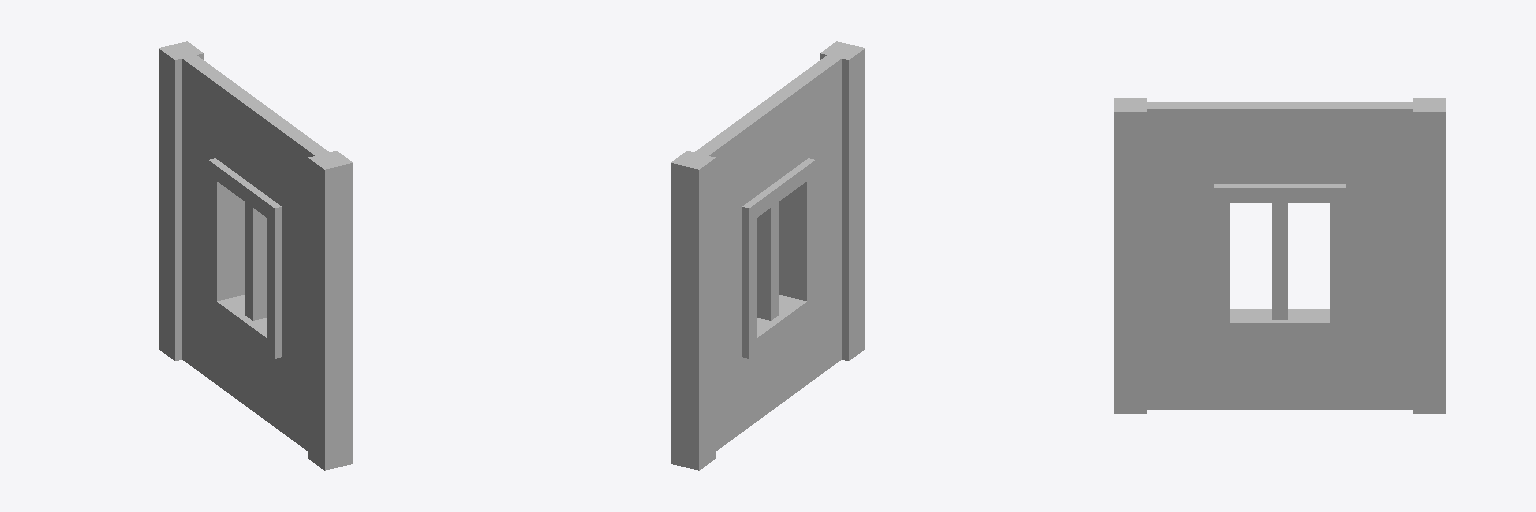
File: wall-wood-window-shutters.obj
3 views of the same model, side by side, from view 1: azimuth 30°, elevation 25°; view 2: azimuth 150°, elevation 25°; view 3: azimuth 270°, elevation 25° (orthographic).
Parts seen in each view (by area): view 1: wall-wood-window-shutters; view 2: wall-wood-window-shutters; view 3: wall-wood-window-shutters.
Part boxes in pixels (x1,y1,x2,y2): wall-wood-window-shutters: (159,41,352,470); wall-wood-window-shutters: (671,41,864,470); wall-wood-window-shutters: (1114,98,1445,413).
Bounding box in the file's own units: 0.1 × 1 × 1.